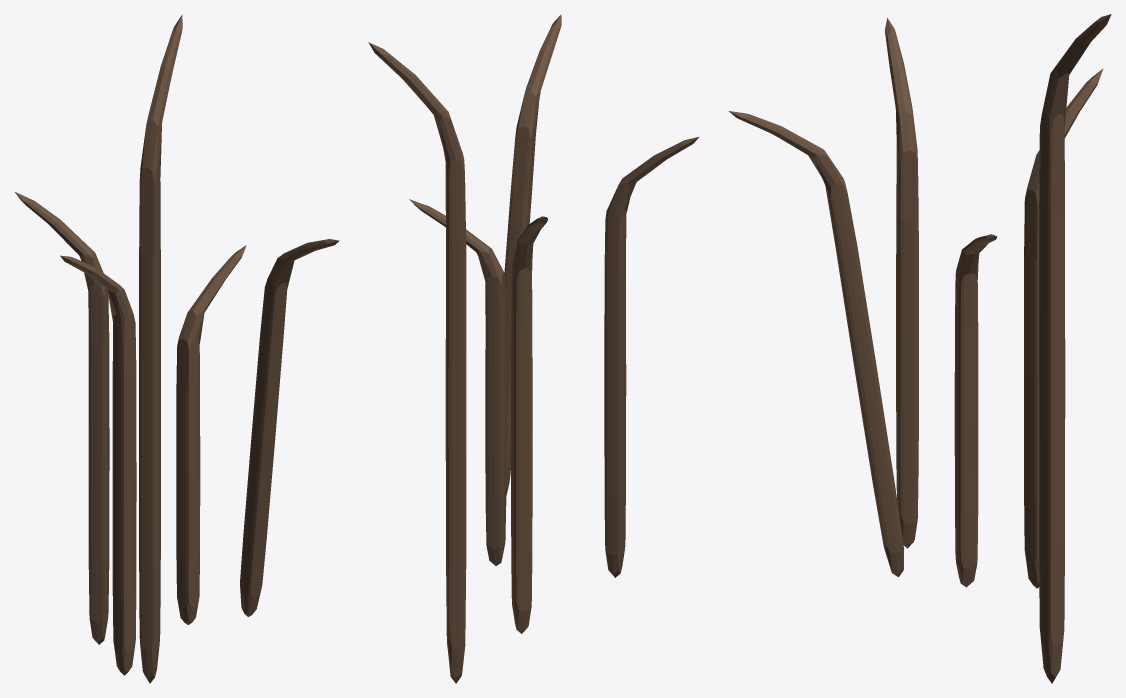
The model's file is Gosari.fbx.
3 renders of one model, left to right at view 1: azimuth 30°, elevation 25°; view 2: azimuth 150°, elevation 25°; view 3: azimuth 270°, elevation 25°, orthographic. The views are drawn at different scales.
Visible parts, largest first — view 1: Cube.050; view 2: Cube.050; view 3: Cube.050.
Boxes of the visible parts, x1,y1,x2,y2 form: Cube.050: (15,14,339,683); Cube.050: (368,14,699,683); Cube.050: (729,14,1111,683).
Bounding box in the file's own units: 59.63 × 153 × 75.88.
